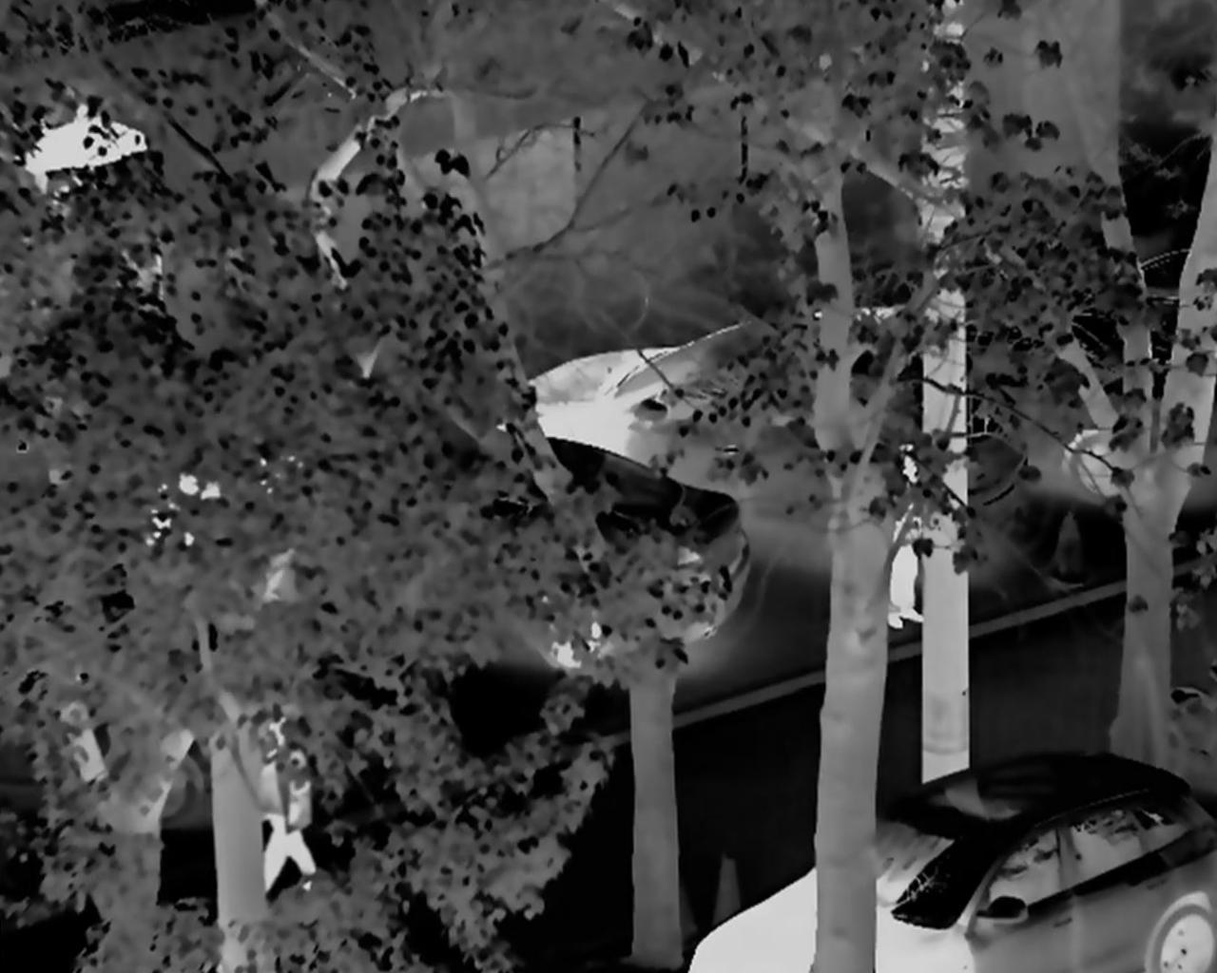person: (254, 710, 317, 899), (880, 436, 933, 649)
